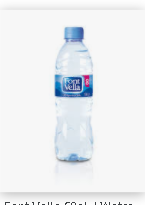Bottle: (54, 27, 94, 162)
